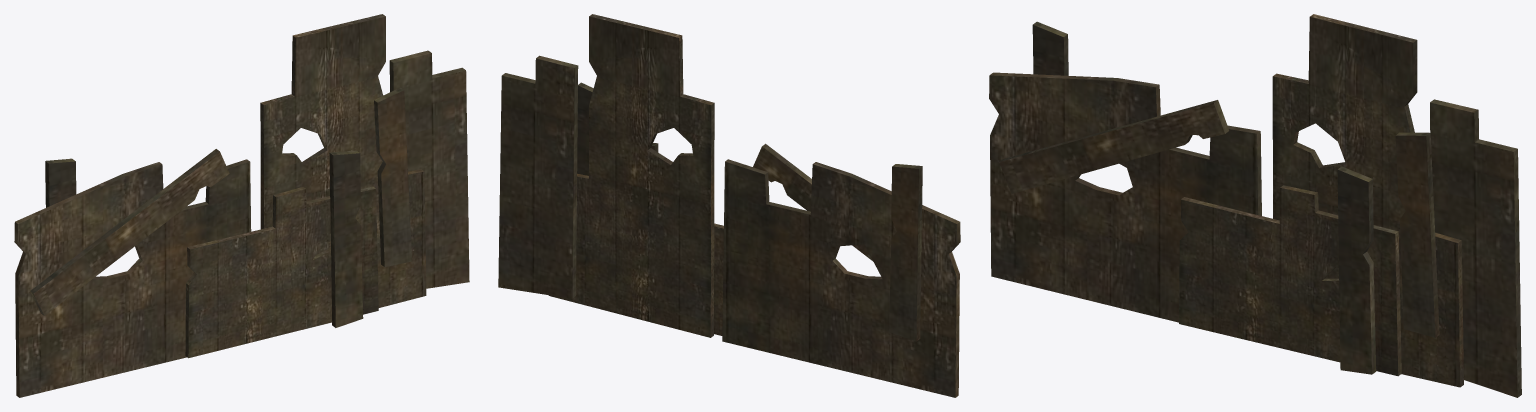
3 renders of one model, left to right at view 1: azimuth 30°, elevation 25°; view 2: azimuth 150°, elevation 25°; view 3: azimuth 330°, elevation 25°, orthographic. The views are drawn at different scales.
Parts seen in each view (by area): view 1: woodwall2; view 2: woodwall2; view 3: woodwall2.
Boxes of the visible parts, <box> form: woodwall2: <box>14,14,469,397</box>; woodwall2: <box>498,14,960,397</box>; woodwall2: <box>989,14,1521,397</box>.
Bounding box in the file's own units: 4.87 × 3 × 0.2538.
1 material, 1 textured.
